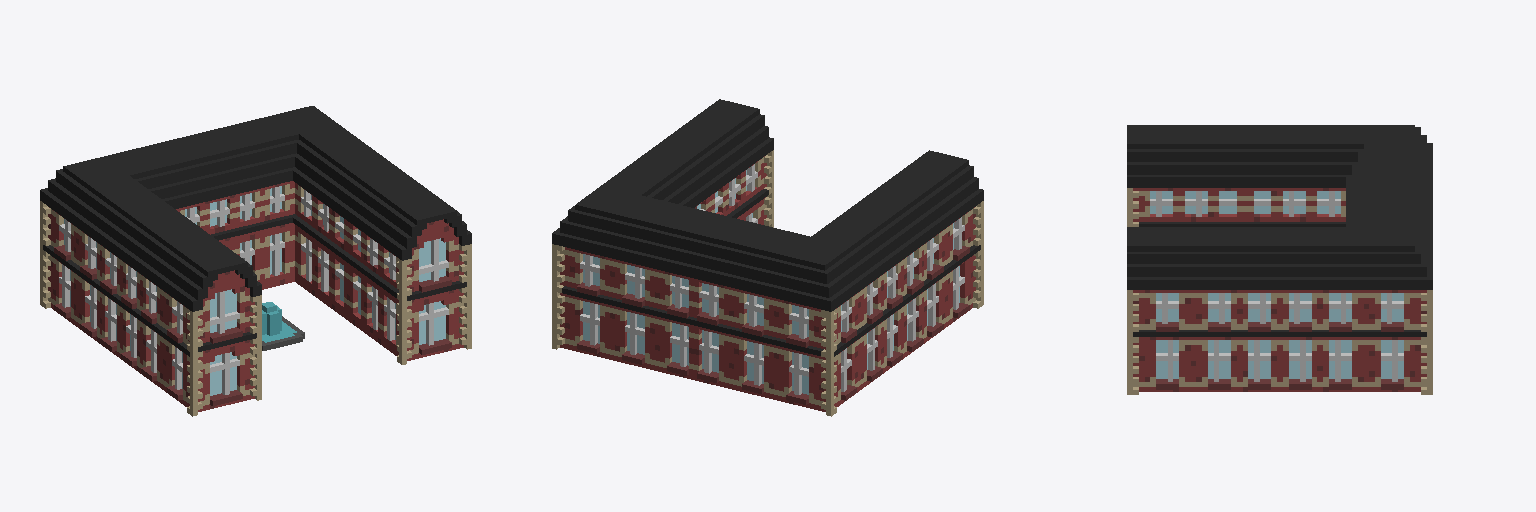
3 views of the same model, side by side, from view 1: azimuth 30°, elevation 25°; view 2: azimuth 150°, elevation 25°; view 3: azimuth 270°, elevation 25° (orthographic).
Parts seen in each view (by area): view 1: Dutch_Square; view 2: Dutch_Square; view 3: Dutch_Square.
Boxes of the visible parts, x1=… form: Dutch_Square: x1=40, y1=106, x2=471, y2=416; Dutch_Square: x1=552, y1=99, x2=983, y2=416; Dutch_Square: x1=1127, y1=125, x2=1432, y2=394.
Size of the model in its own units: 56 by 27 by 53.
1 materials, 1 textured.